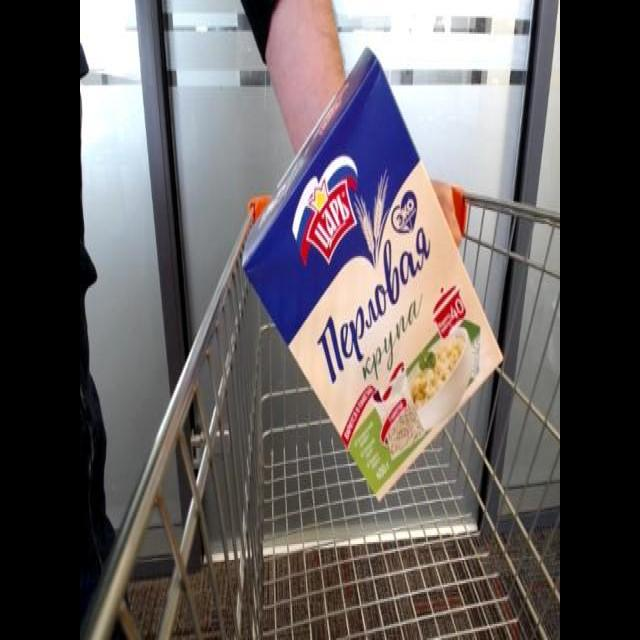Groats: (239, 39, 508, 510)
